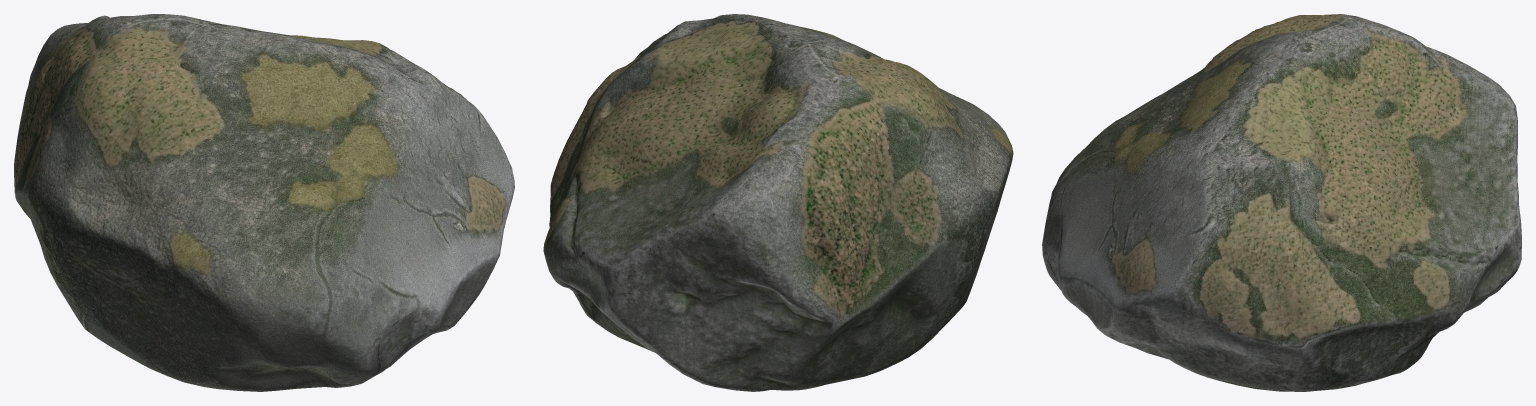
Rendered from rock_big.glb.
3 views of the same model, side by side, from view 1: azimuth 30°, elevation 25°; view 2: azimuth 150°, elevation 25°; view 3: azimuth 270°, elevation 25° (orthographic). The views are drawn at different scales.
Size of the model in its own units: 0.9321 by 0.639 by 0.9982.
Materials: 1 (1 with a texture image).
